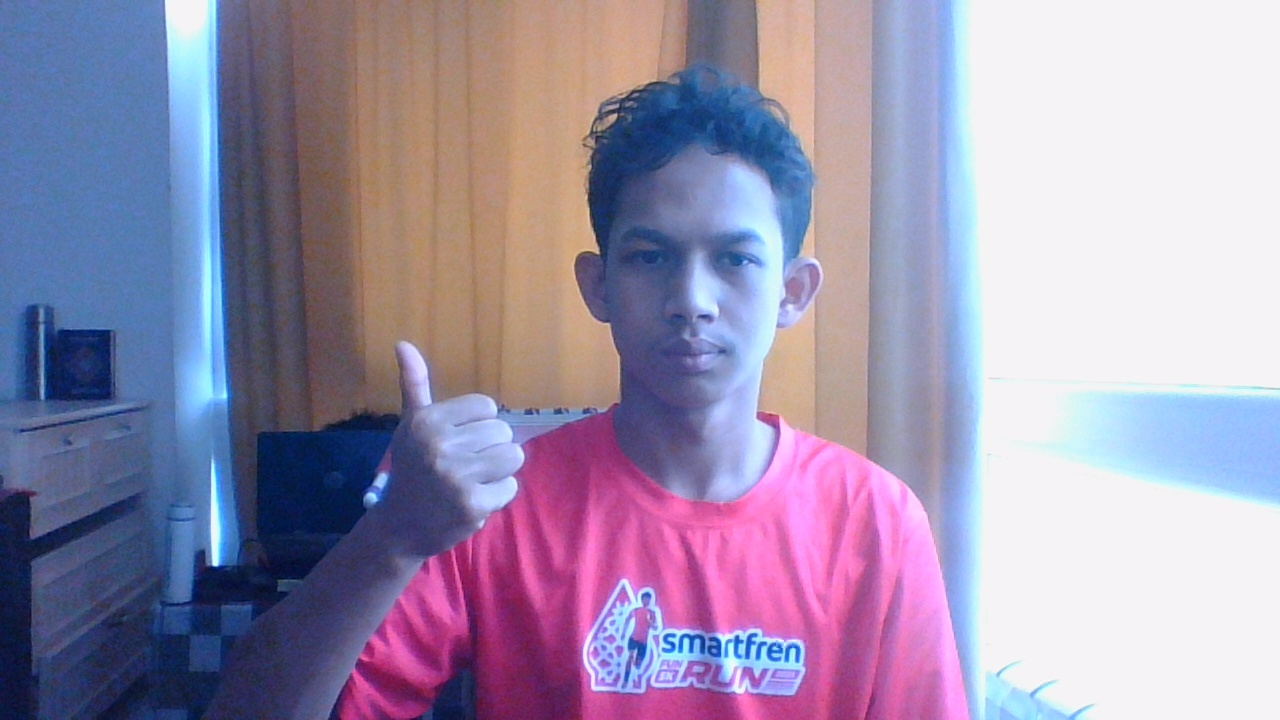good: (358, 344, 557, 560)
